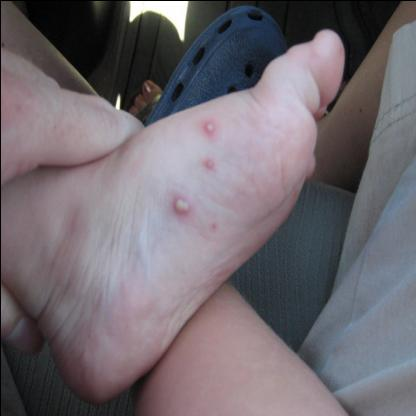Fire ant: (171, 192, 193, 214), (201, 154, 217, 173), (200, 117, 215, 133)
